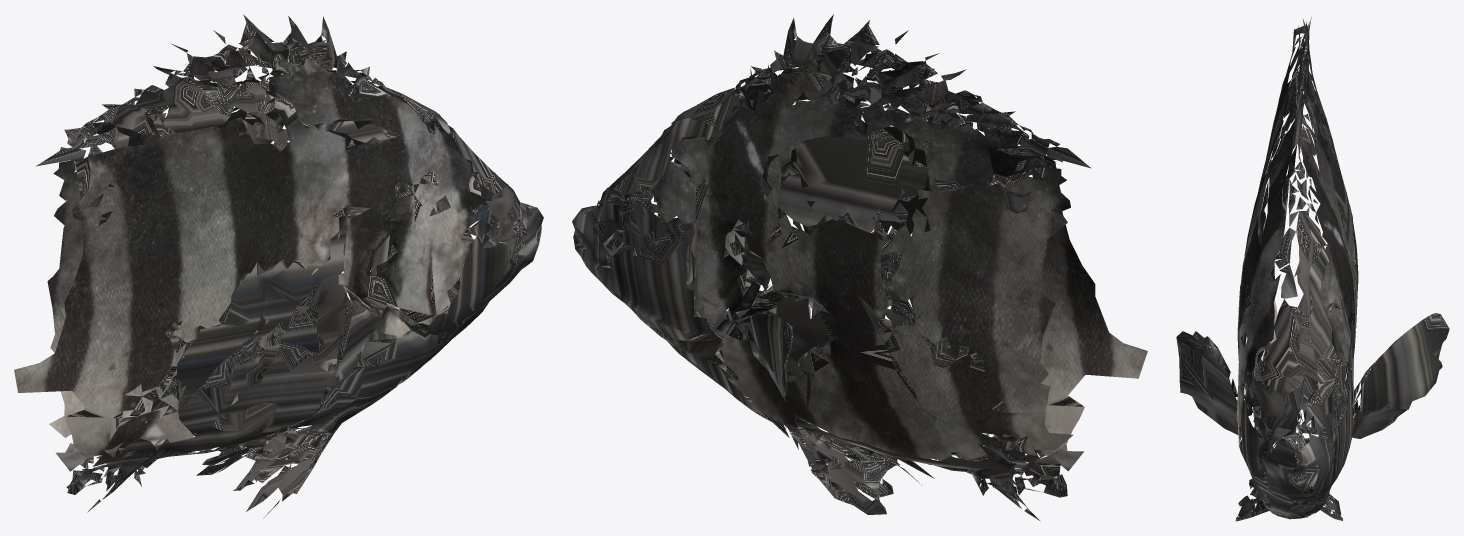
File: knifejaw_a.glb
3 views of the same model, side by side, from view 1: azimuth 30°, elevation 25°; view 2: azimuth 150°, elevation 25°; view 3: azimuth 270°, elevation 25° (orthographic). The views are drawn at different scales.
Parts seen in each view (by area): view 1: knifejaw_a; view 2: knifejaw_a; view 3: knifejaw_a.
Part boxes in pixels (x1,y1,x2,y2): knifejaw_a: (14, 14, 543, 518); knifejaw_a: (572, 14, 1147, 521); knifejaw_a: (1176, 17, 1449, 521).
Bounding box in the file's own units: 0.3847 × 0.3215 × 0.1608.
Materials: 1 (1 with a texture image).
